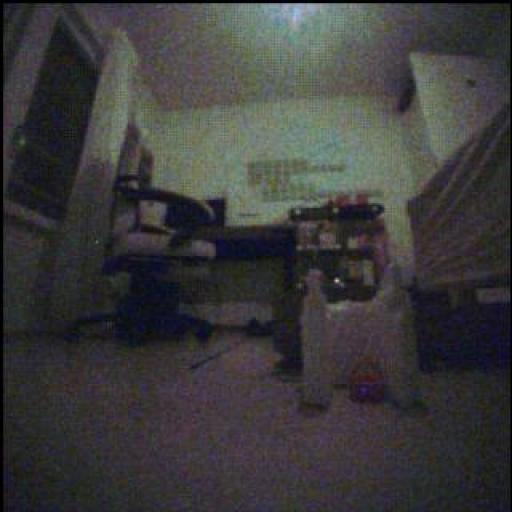basket: (350, 360, 387, 405)
